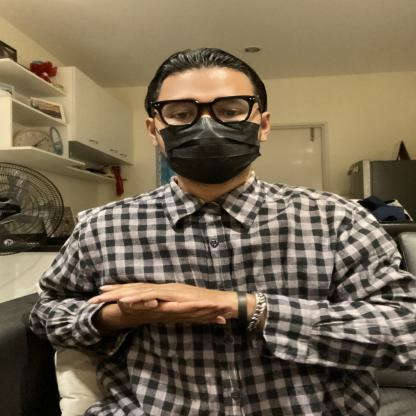Love: (33, 228, 303, 354)
